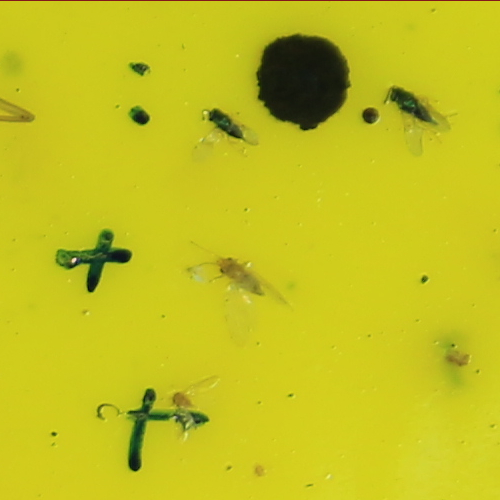Glycaspis: (214, 254, 264, 296)
Psyllaephagus: (387, 84, 443, 128), (205, 105, 241, 139)
psylla: (169, 389, 196, 409)
